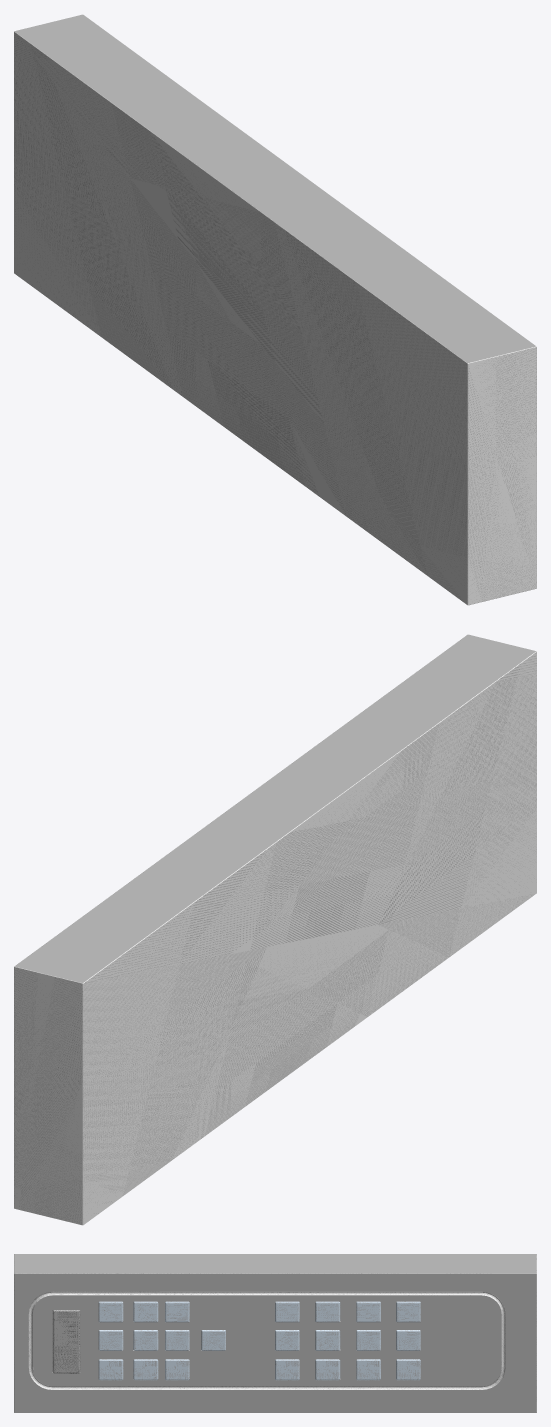
The model's file is 2buttons.dae.
The picture shows the model from 3 angles, top to bottom: view 1: azimuth 30°, elevation 25°; view 2: azimuth 150°, elevation 25°; view 3: azimuth 270°, elevation 25°; orthographic projection. The views are drawn at different scales.
Parts seen in each view (by area): view 1: skp6ERaFe (×2); view 2: skp6ERaFe (×2); view 3: skp6ERaFe (×29).
Part boxes in pixels (bbox=[...]): skp6ERaFe (×2): bbox=[14, 14, 536, 605]; skp6ERaFe (×2): bbox=[14, 634, 536, 1225]; skp6ERaFe (×29): bbox=[14, 1254, 536, 1412].
Bounding box in the file's own units: 1.19 × 13.14 × 3.87.
